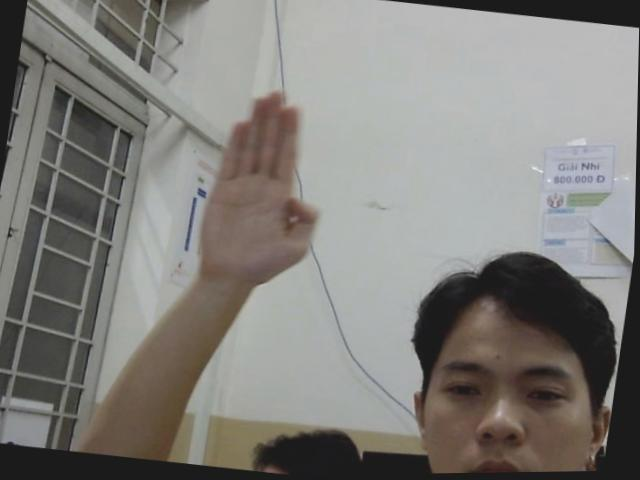B: (189, 80, 339, 290)
